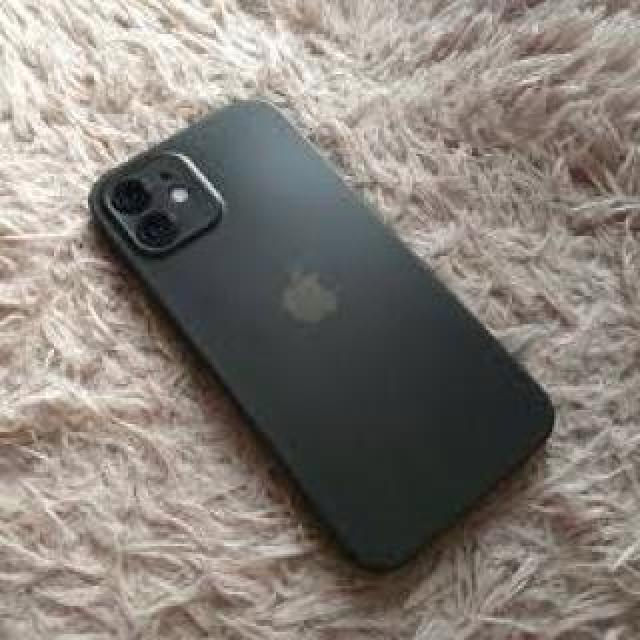smart phone: (88, 71, 560, 552)
